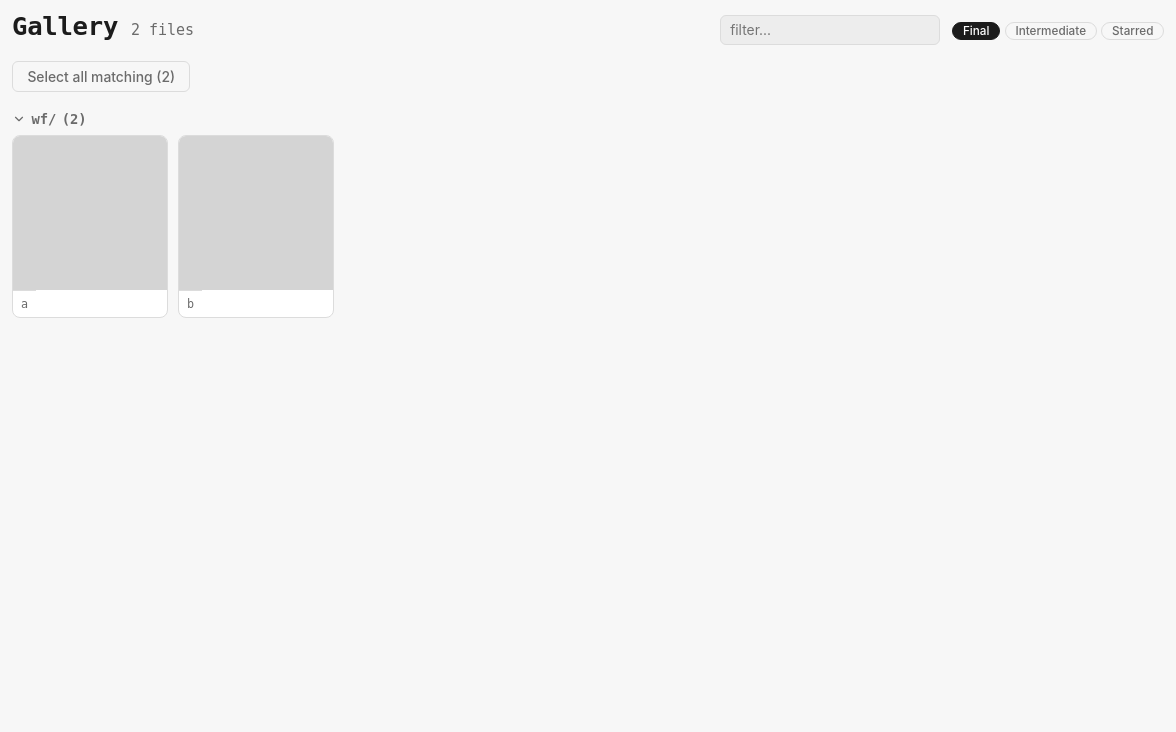
marks every tile of a run after its run note is saved
Click the button with class "cell" showing "a" at [90, 227], box [12,135,168,319]
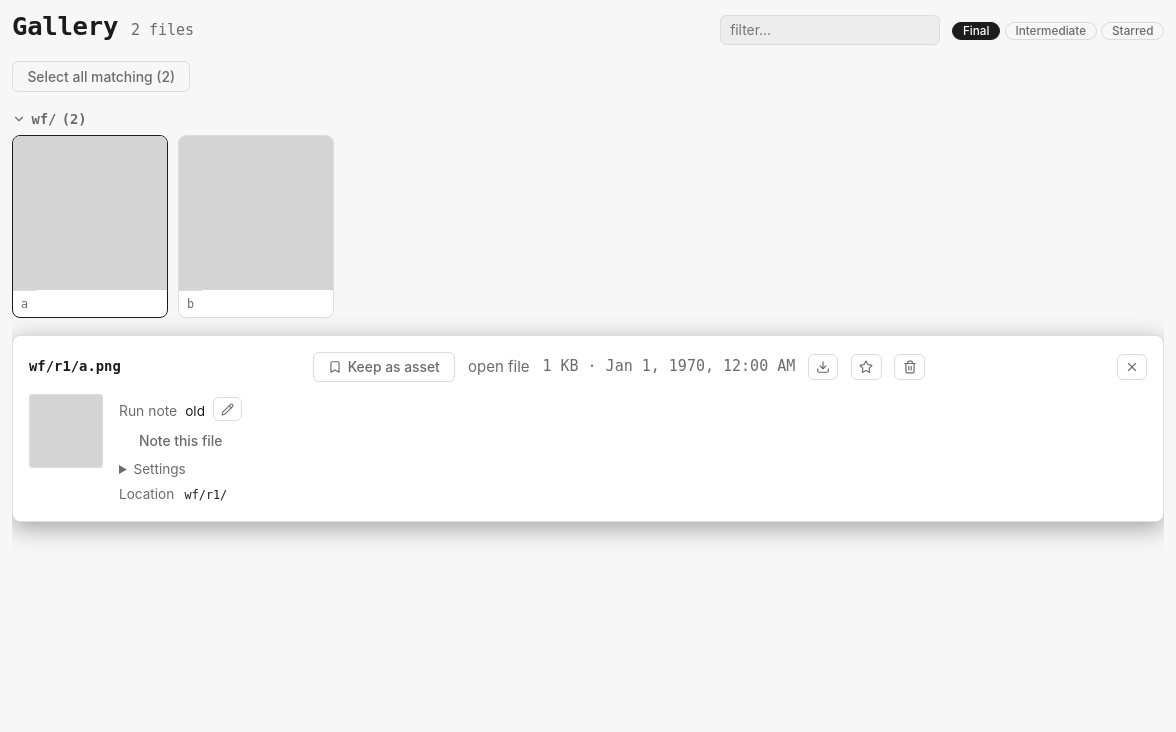
Click the button named "edit note" at [228, 409], box [213,397,242,421]
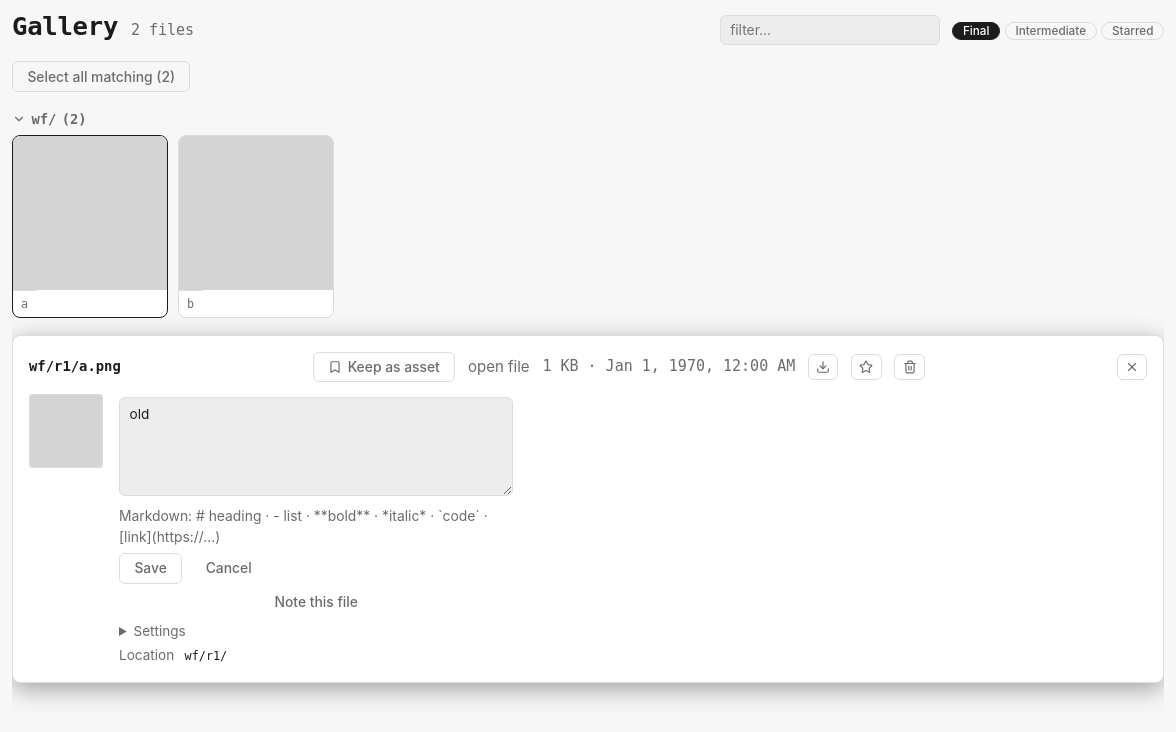
Replace the text in the text box named "Run note" with "fresh" at [316, 446], box [119,397,514,496]
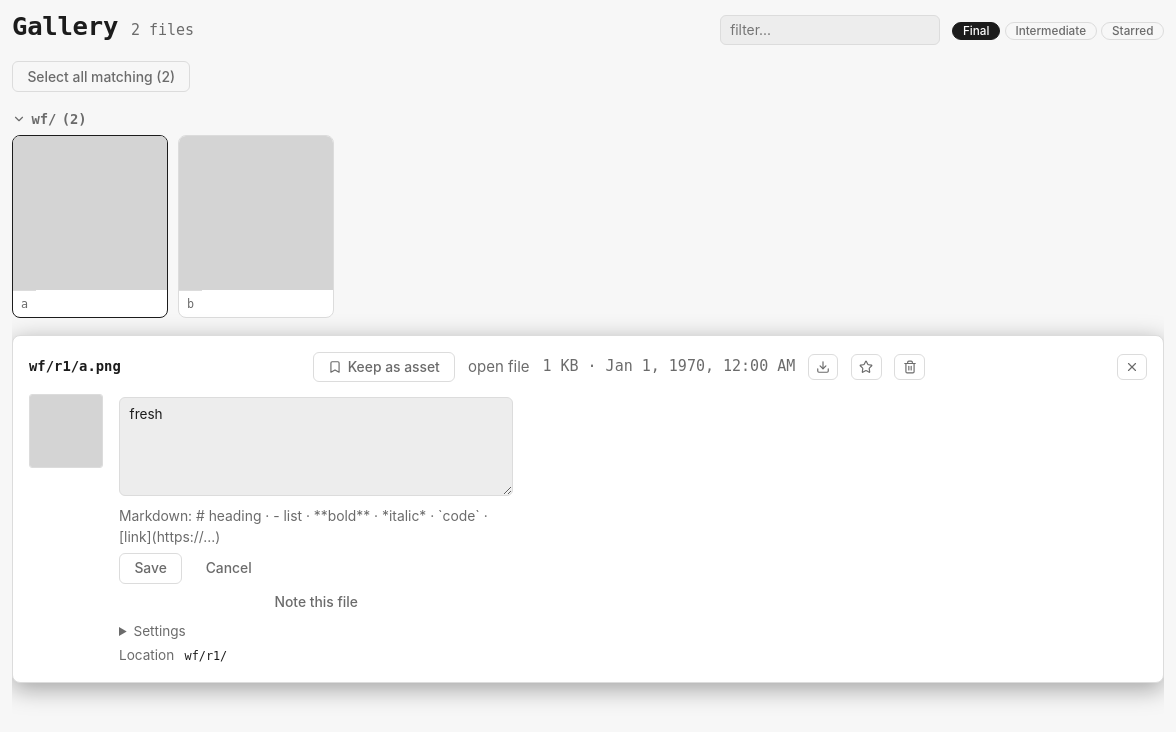
Click the button "Save" at [151, 568], box [119,553,182,584]
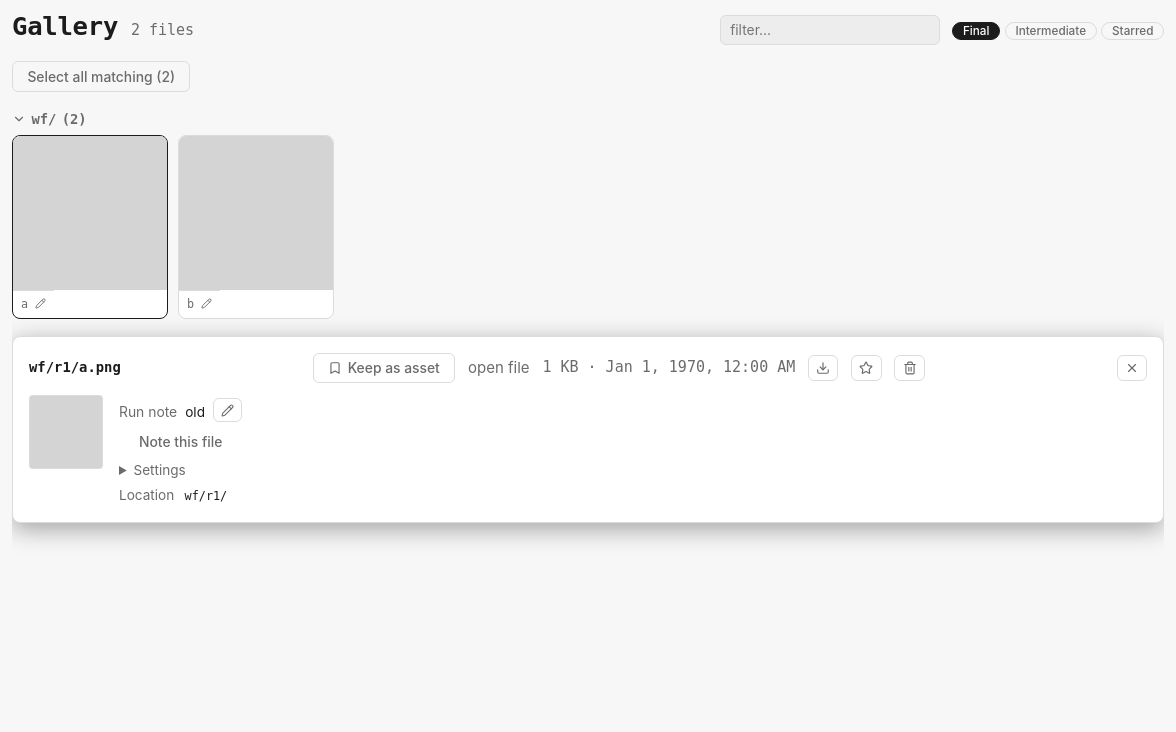
Check: the number of elements with class "note-mark" is 2, box [35,298,46,312]; [201,298,212,312]
